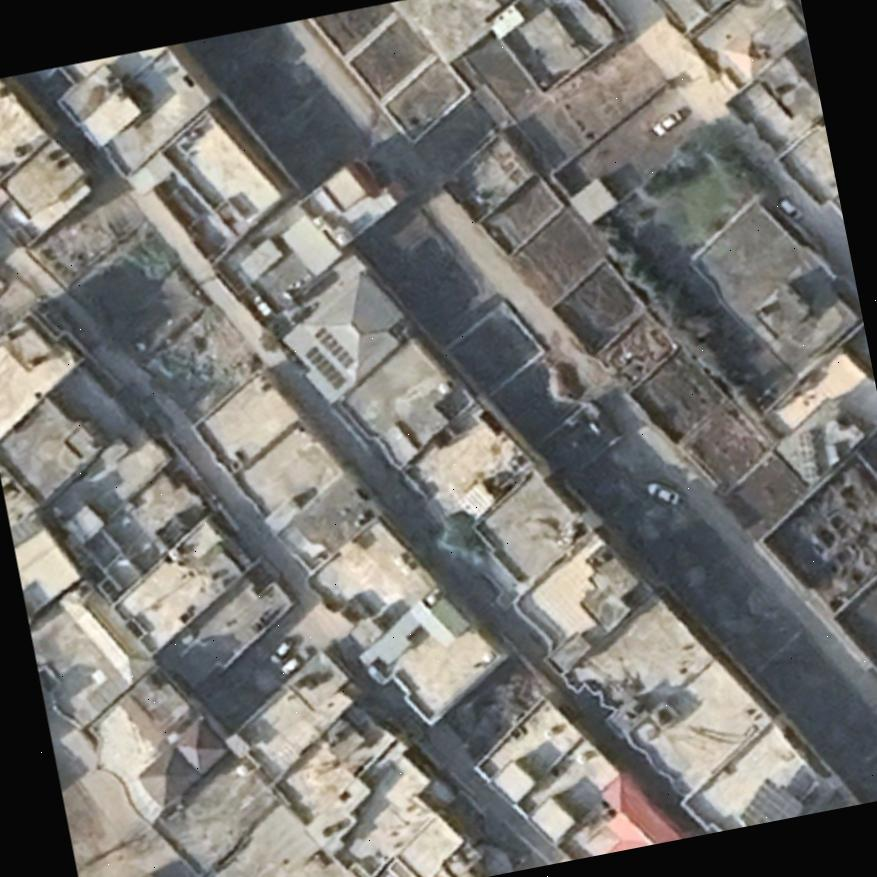Solarpanel: (299, 322, 358, 391), (735, 774, 805, 826)
